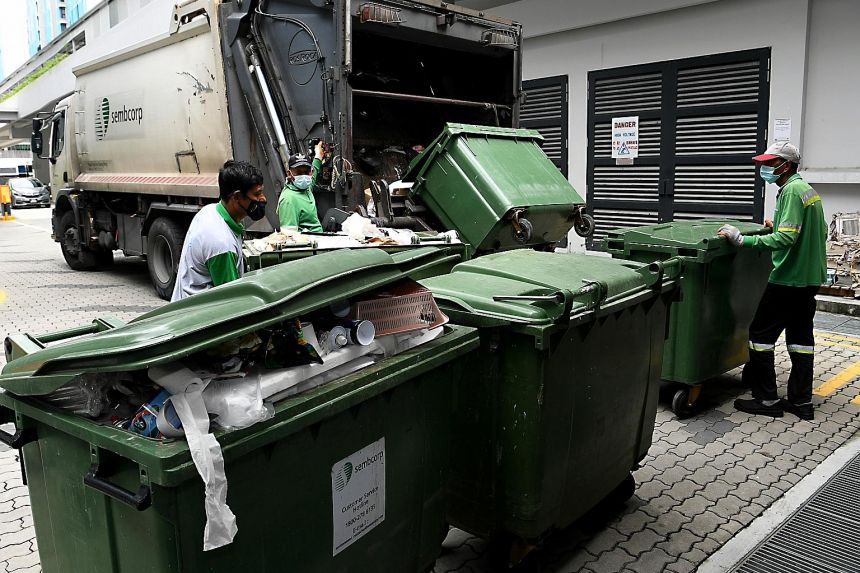bin_empty: (422, 250, 678, 568), (604, 218, 771, 415), (404, 123, 591, 254)
bin_full: (0, 248, 478, 572)
vehicle: (31, 0, 523, 299), (8, 176, 49, 206)
